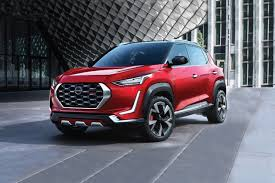Nissan: (47, 43, 213, 136)
